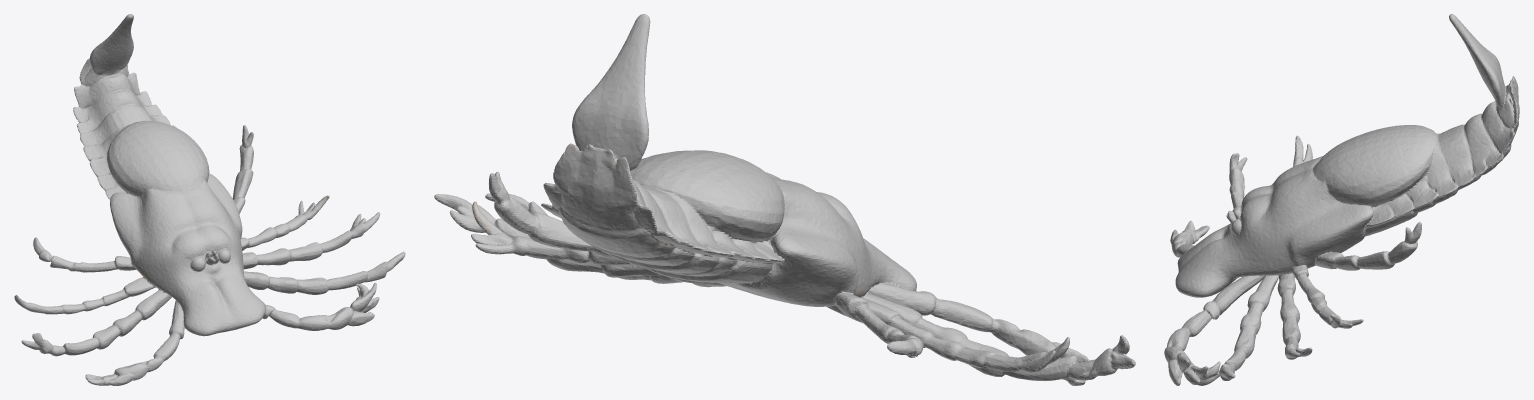
Rendered from asset.glb.
3 views of the same model, side by side, from view 1: azimuth 30°, elevation 25°; view 2: azimuth 150°, elevation 25°; view 3: azimuth 270°, elevation 25° (orthographic). The views are drawn at different scales.
Visible parts, largest first — view 1: node_id5; view 2: node_id5; view 3: node_id5.
Part boxes in pixels (left/top/right/bottom): node_id5: left=14, top=14, right=405, bottom=385; node_id5: left=434, top=14, right=1135, bottom=385; node_id5: left=1164, top=14, right=1519, bottom=385.
Bounding box in the file's own units: 0.512 × 0.3298 × 0.3491.
Materials: 1 (1 with a texture image).
